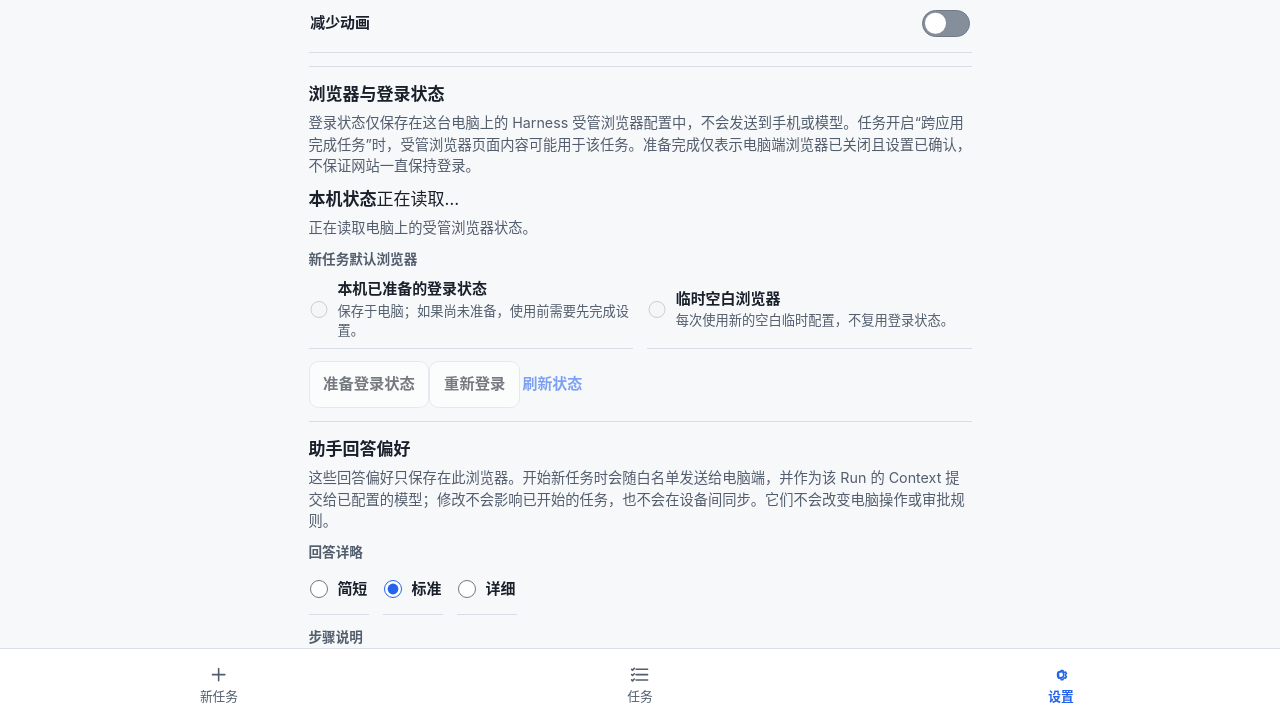
Test: personal preferences screen › saves the default and runs prepare, complete, and relogin through the profile API
This screenshot has width=1280, height=720.
(page scrolled)
Step 1. Click the radio button labelled "临时空白浏览器 每次使用新的空白临时配置，不复用登录状态。" → coordinates (657, 310), box [648,301,666,318]
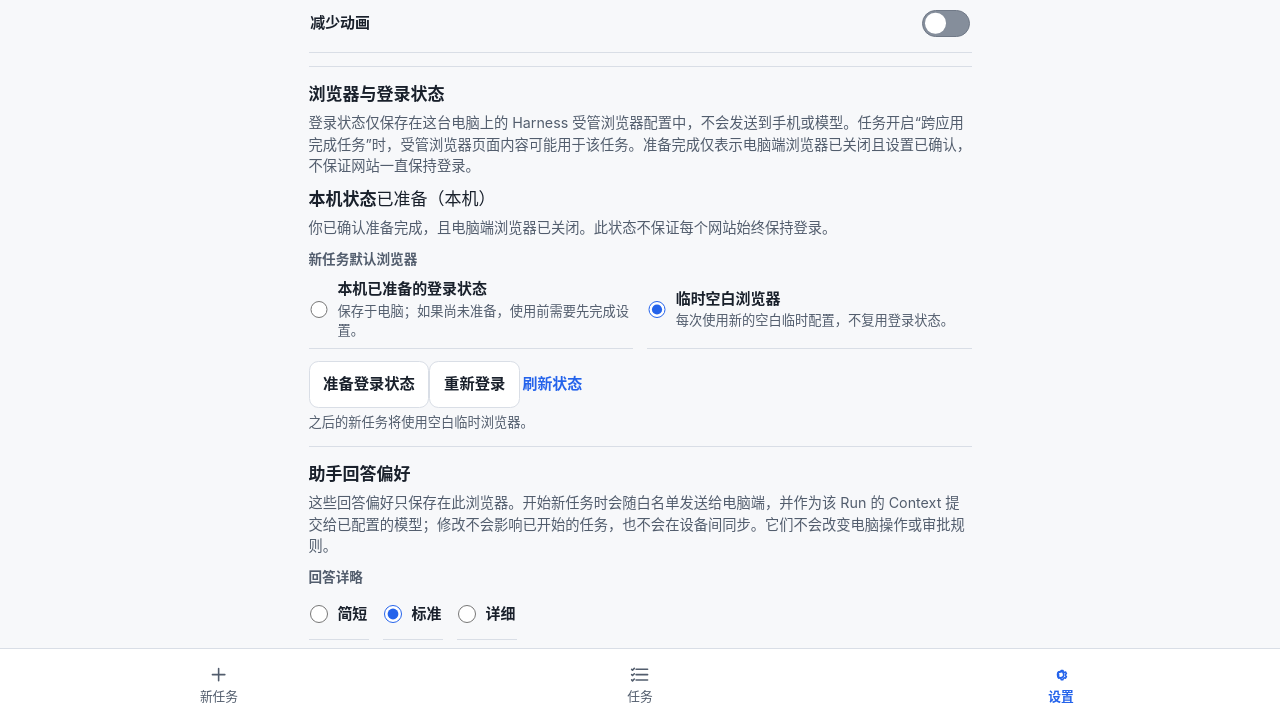
Now the text "之后的新任务将使用空白临时浏览器。" is shown, box [308,414,534,430]
Step 2. Click the button "准备登录状态" → coordinates (369, 384), box [308,361,430,408]
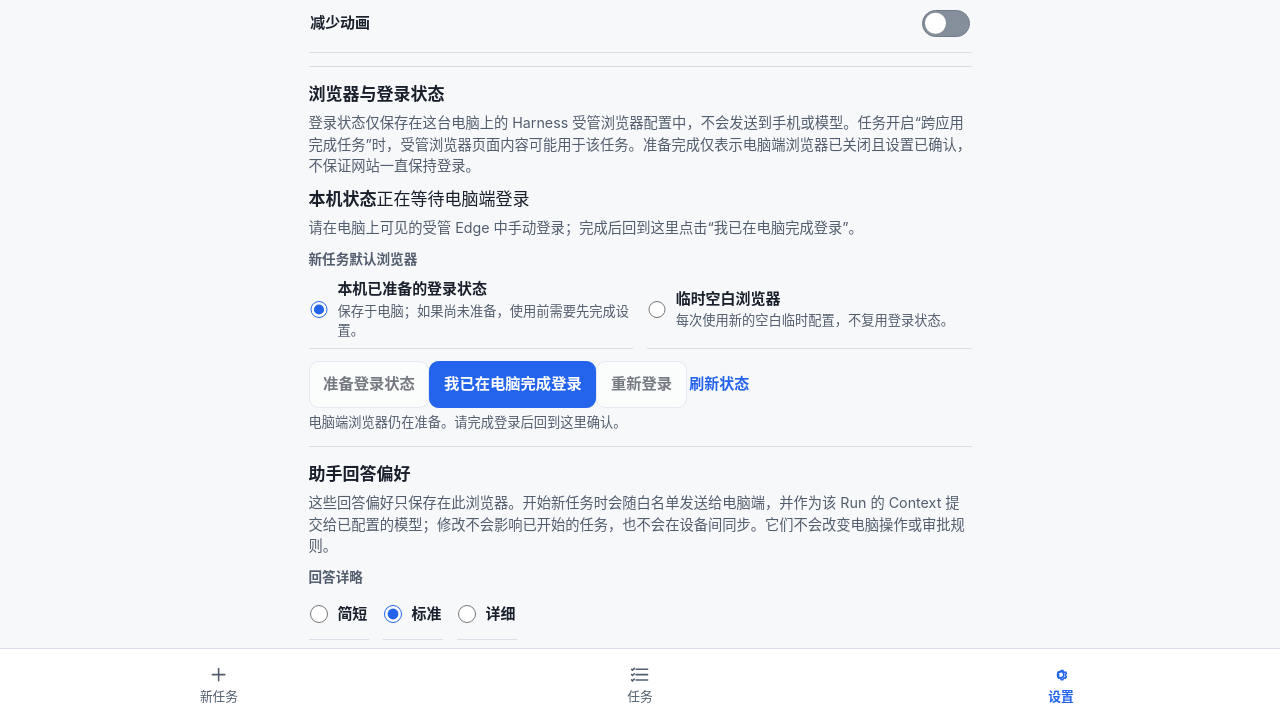
Now the button "我已在电脑完成登录" is shown
Now the text "电脑端浏览器仍在准备。请完成登录后回到这里确认。" is shown, box [308,414,626,430]
Step 3. Click the button "我已在电脑完成登录" → coordinates (513, 384), box [430,361,596,408]
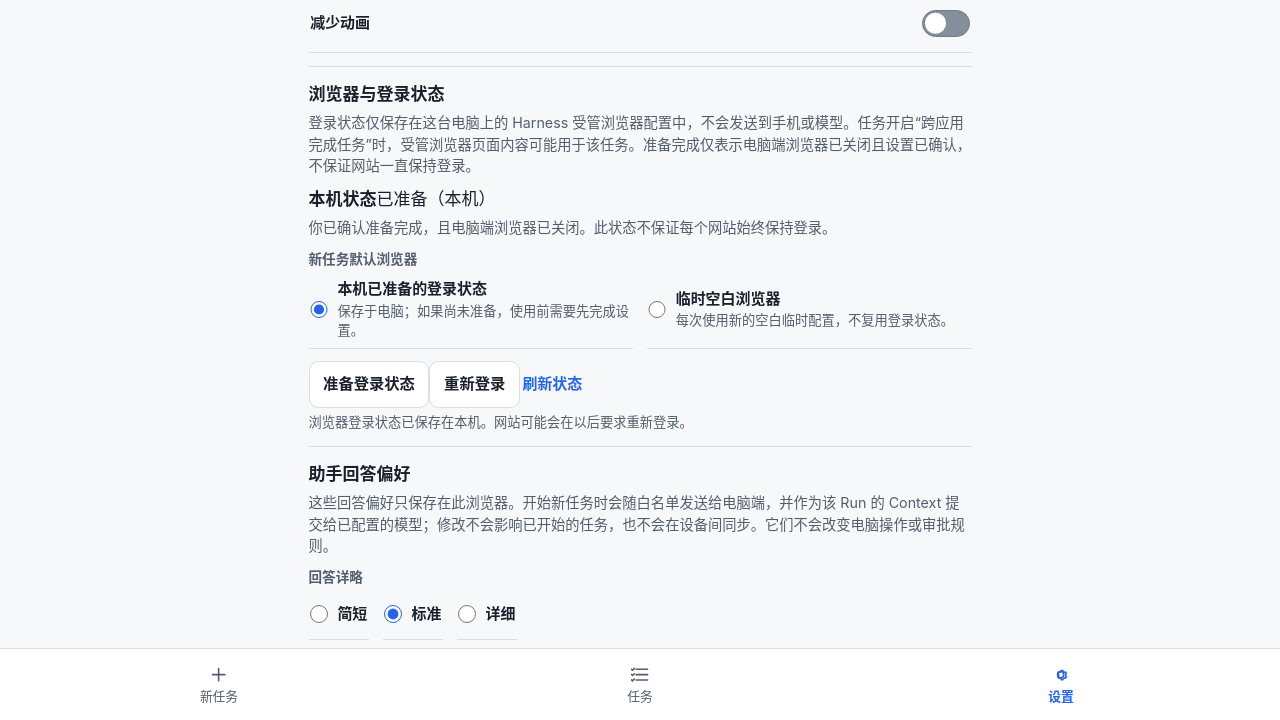
Now the text "浏览器登录状态已保存在本机。网站可能会在以后要求重新登录。" is shown, box [308,414,693,430]
Step 4. Click the button "重新登录" → coordinates (475, 384), box [430,361,520,408]
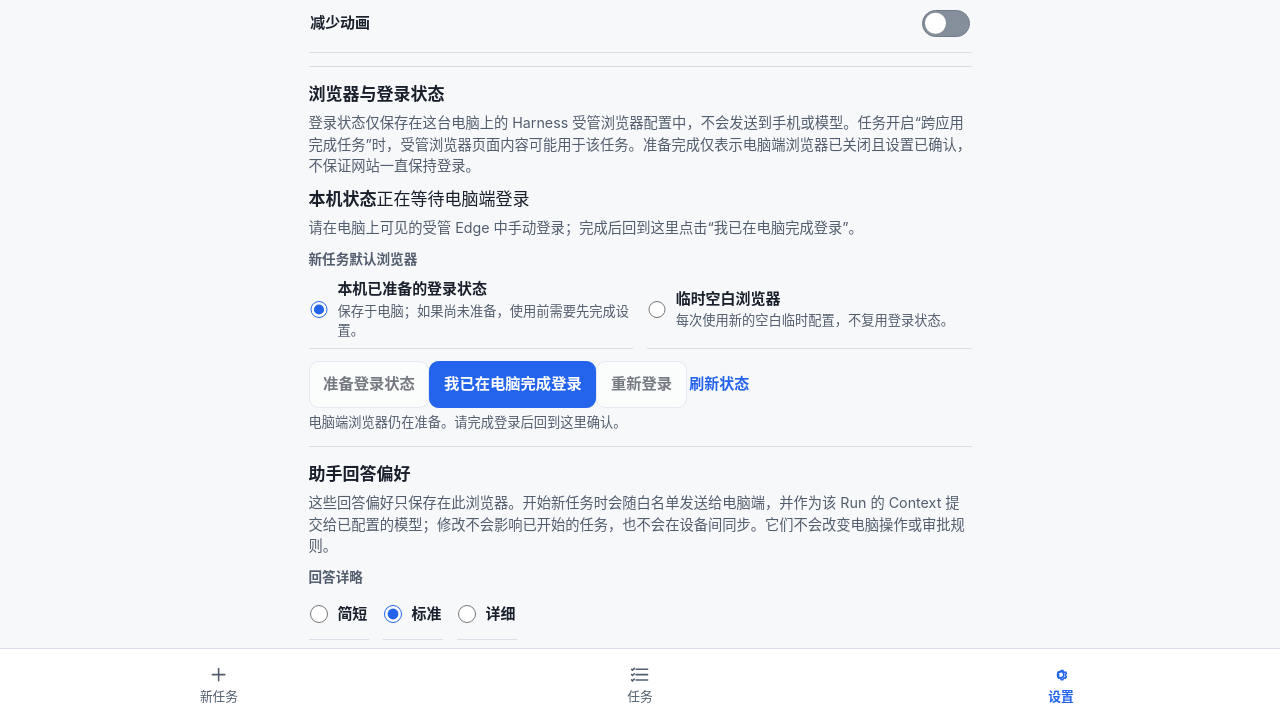
Now the text "电脑端浏览器仍在准备。请完成登录后回到这里确认。" is shown, box [308,414,626,430]
